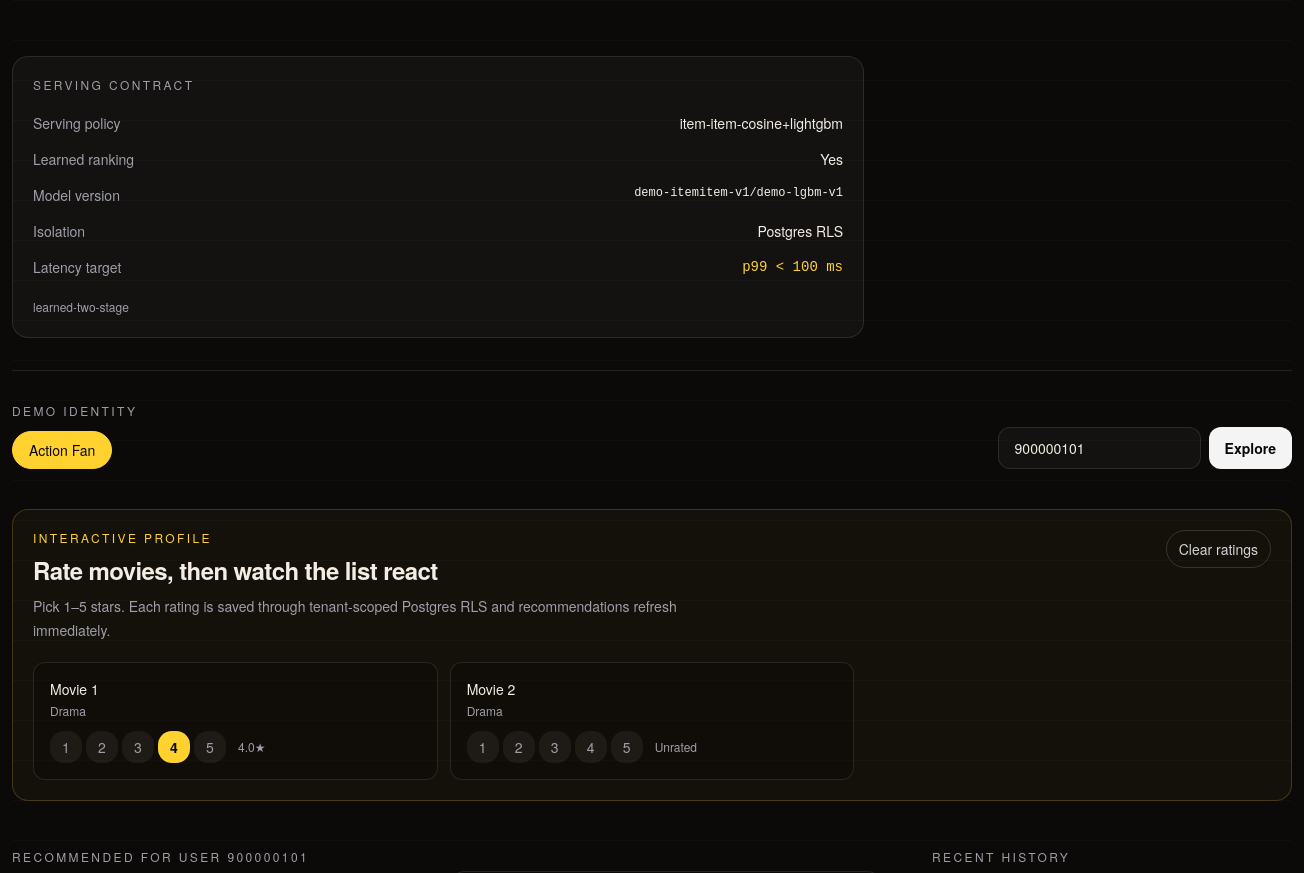
Test: clearing every rating › deletes once confirmed, and says so
Click the button "Clear ratings" at (1218, 549), box [1166,530,1271,568]
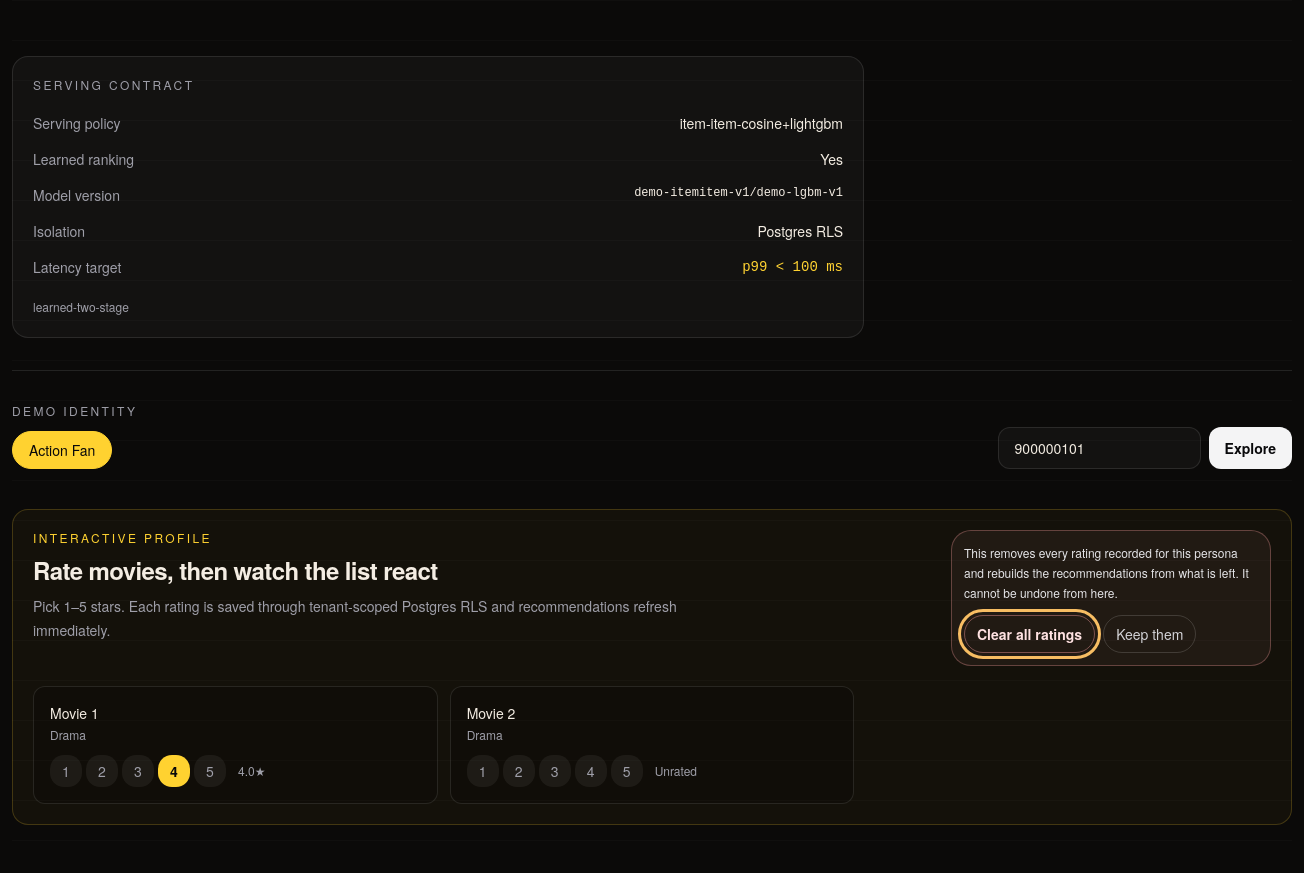
Click the button "Clear all ratings" at (1030, 634), box [964,615,1095,653]
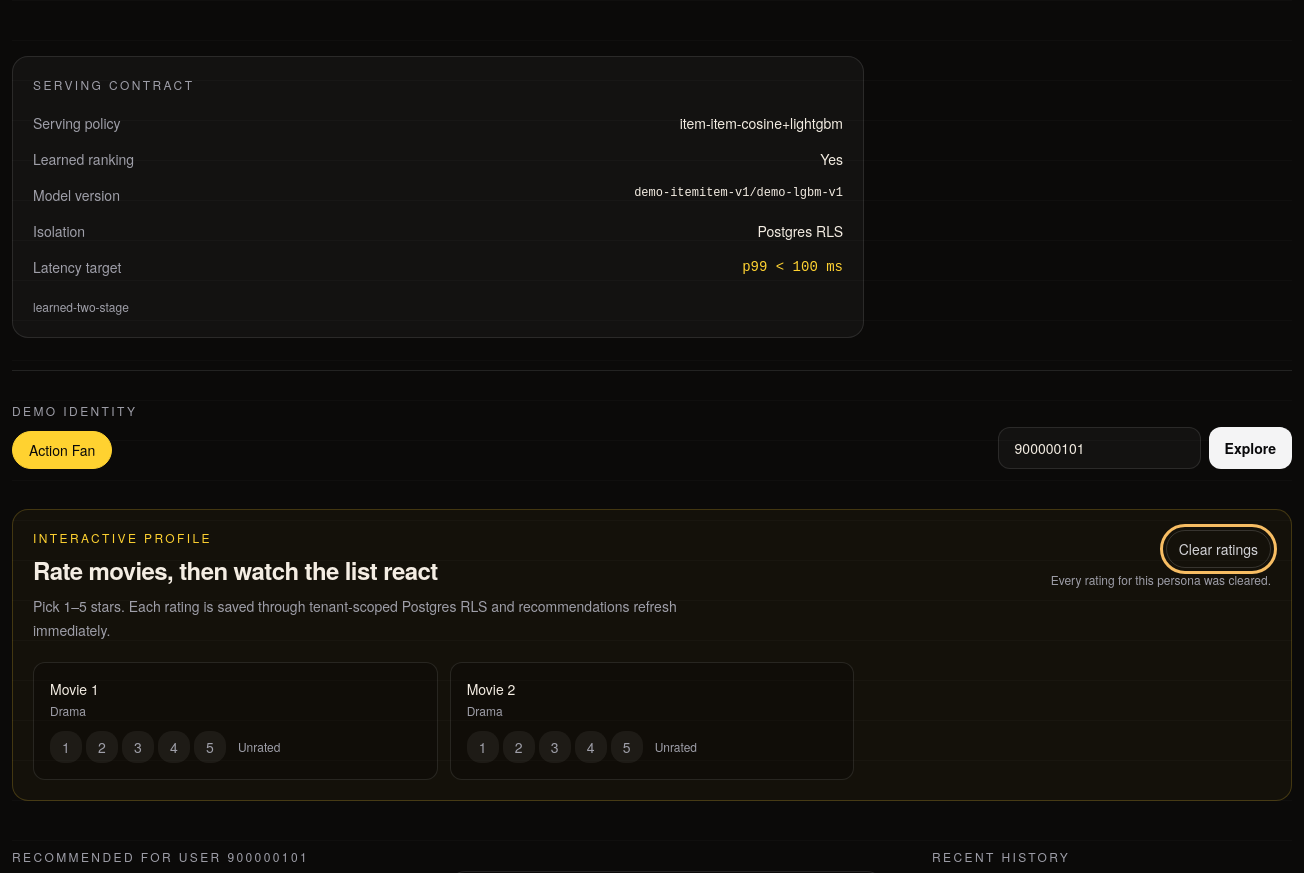
Expected: the text "Every rating for this persona was cleared." is shown, [1051,572,1271,588]
